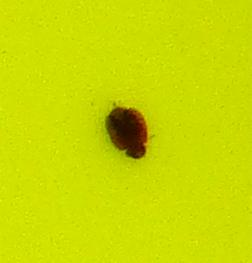Coleoptera: (100, 100, 152, 163)
